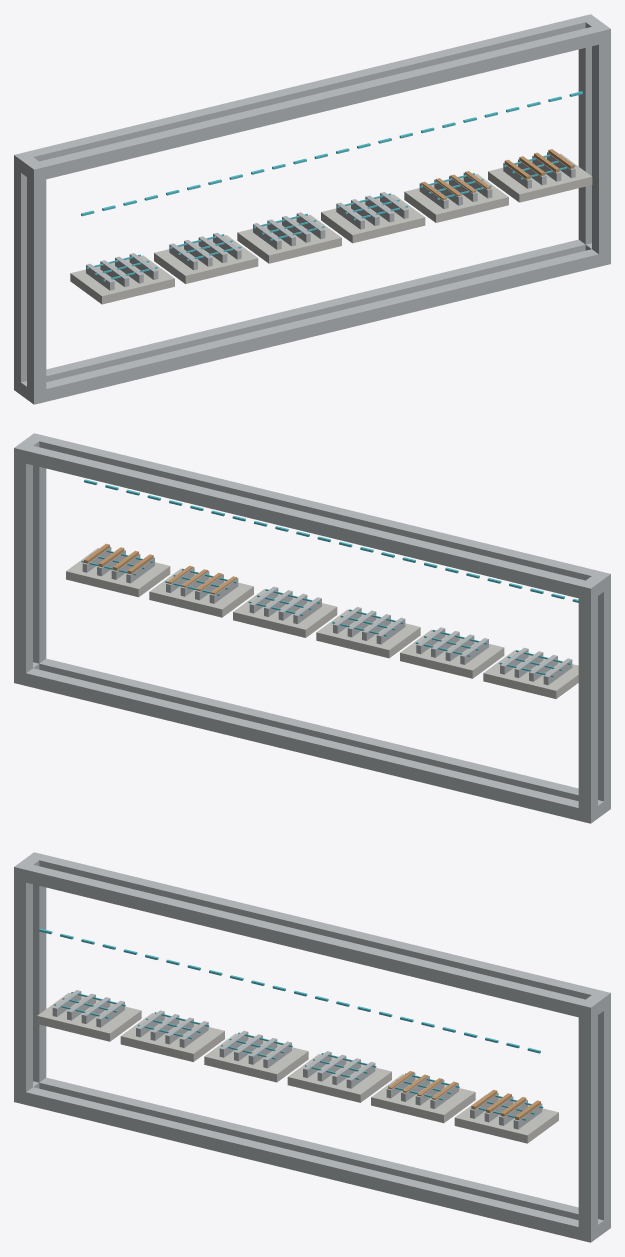
The model's file is 06_L76_HolographicTrenchViaCrossSection.glb.
3 renders of one model, top to bottom at view 1: azimuth 30°, elevation 25°; view 2: azimuth 150°, elevation 25°; view 3: azimuth 330°, elevation 25°, orthographic.
Parts seen in each view (by area): view 1: HolographicTrenchViaCrossSection_Node_0009, HolographicTrenchViaCrossSection_Node_0005, HolographicTrenchViaCrossSection_Node_0008, HolographicTrenchViaCrossSection_Node_0004, HolographicTrenchViaCrossSection_Node_0001, HolographicTrenchViaCrossSection_Node_0003, HolographicTrenchViaCrossSection_Node_0000, HolographicTrenchViaCrossSection_Node_0002, HolographicTrenchViaCrossSection_Node_0044, HolographicTrenchViaCrossSection_Node_0032, HolographicTrenchViaCrossSection_Node_0020, HolographicTrenchViaCrossSection_Node_0012 (+2 smaller); view 2: HolographicTrenchViaCrossSection_Node_0008, HolographicTrenchViaCrossSection_Node_0004, HolographicTrenchViaCrossSection_Node_0009, HolographicTrenchViaCrossSection_Node_0005, HolographicTrenchViaCrossSection_Node_0000, HolographicTrenchViaCrossSection_Node_0002, HolographicTrenchViaCrossSection_Node_0001, HolographicTrenchViaCrossSection_Node_0003, HolographicTrenchViaCrossSection_Node_0020, HolographicTrenchViaCrossSection_Node_0044, HolographicTrenchViaCrossSection_Node_0032, HolographicTrenchViaCrossSection_Node_0056 (+2 smaller); view 3: HolographicTrenchViaCrossSection_Node_0009, HolographicTrenchViaCrossSection_Node_0005, HolographicTrenchViaCrossSection_Node_0008, HolographicTrenchViaCrossSection_Node_0004, HolographicTrenchViaCrossSection_Node_0003, HolographicTrenchViaCrossSection_Node_0001, HolographicTrenchViaCrossSection_Node_0002, HolographicTrenchViaCrossSection_Node_0000, HolographicTrenchViaCrossSection_Node_0020, HolographicTrenchViaCrossSection_Node_0044, HolographicTrenchViaCrossSection_Node_0032, HolographicTrenchViaCrossSection_Node_0012 (+2 smaller).
Part boxes in pixels (x1,y1,x2,y2): HolographicTrenchViaCrossSection_Node_0009: [28, 24, 610, 181]; HolographicTrenchViaCrossSection_Node_0005: [28, 249, 610, 404]; HolographicTrenchViaCrossSection_Node_0008: [14, 15, 595, 171]; HolographicTrenchViaCrossSection_Node_0004: [14, 239, 585, 392]; HolographicTrenchViaCrossSection_Node_0001: [27, 161, 46, 404]; HolographicTrenchViaCrossSection_Node_0003: [592, 24, 610, 266]; HolographicTrenchViaCrossSection_Node_0000: [14, 152, 32, 394]; HolographicTrenchViaCrossSection_Node_0002: [578, 14, 596, 244]; HolographicTrenchViaCrossSection_Node_0044: [321, 194, 425, 243]; HolographicTrenchViaCrossSection_Node_0032: [237, 214, 341, 263]; HolographicTrenchViaCrossSection_Node_0020: [154, 235, 258, 283]; HolographicTrenchViaCrossSection_Node_0012: [70, 255, 174, 304]; HolographicTrenchViaCrossSection_Node_0008: [14, 443, 597, 600]; HolographicTrenchViaCrossSection_Node_0004: [14, 668, 597, 823]; HolographicTrenchViaCrossSection_Node_0009: [28, 433, 610, 585]; HolographicTrenchViaCrossSection_Node_0005: [39, 658, 610, 808]; HolographicTrenchViaCrossSection_Node_0000: [578, 580, 597, 823]; HolographicTrenchViaCrossSection_Node_0002: [14, 443, 32, 685]; HolographicTrenchViaCrossSection_Node_0001: [592, 571, 610, 809]; HolographicTrenchViaCrossSection_Node_0003: [27, 433, 46, 663]; HolographicTrenchViaCrossSection_Node_0020: [400, 629, 504, 678]; HolographicTrenchViaCrossSection_Node_0044: [233, 589, 337, 637]; HolographicTrenchViaCrossSection_Node_0032: [316, 609, 420, 658]; HolographicTrenchViaCrossSection_Node_0056: [149, 568, 253, 617]; HolographicTrenchViaCrossSection_Node_0009: [14, 863, 597, 1018]; HolographicTrenchViaCrossSection_Node_0005: [14, 1087, 597, 1242]; HolographicTrenchViaCrossSection_Node_0008: [28, 852, 610, 1009]; HolographicTrenchViaCrossSection_Node_0004: [39, 1077, 610, 1231]; HolographicTrenchViaCrossSection_Node_0003: [578, 999, 597, 1242]; HolographicTrenchViaCrossSection_Node_0001: [14, 862, 32, 1104]; HolographicTrenchViaCrossSection_Node_0002: [592, 990, 610, 1232]; HolographicTrenchViaCrossSection_Node_0000: [28, 852, 46, 1082]; HolographicTrenchViaCrossSection_Node_0020: [120, 1013, 224, 1061]; HolographicTrenchViaCrossSection_Node_0044: [287, 1054, 391, 1102]; HolographicTrenchViaCrossSection_Node_0032: [204, 1033, 308, 1082]; HolographicTrenchViaCrossSection_Node_0012: [37, 993, 141, 1041].
Size of the model in its own units: 3.8 by 1.48 by 0.485.
